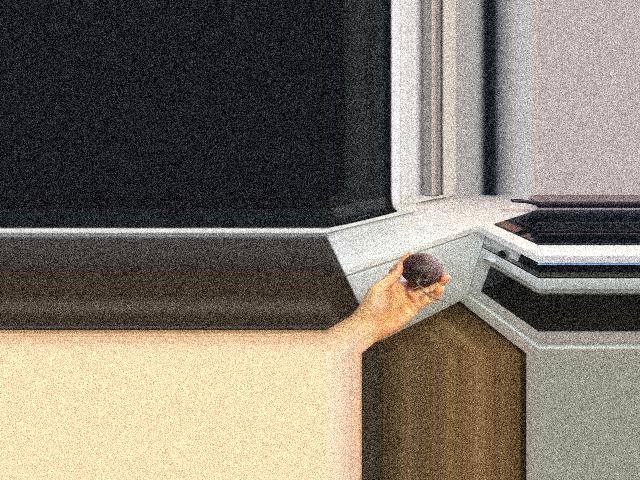beet: (402, 253, 447, 302)
